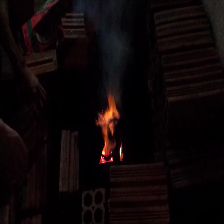fire_h: (97, 95, 118, 164)
fire_l: (119, 143, 124, 159)
